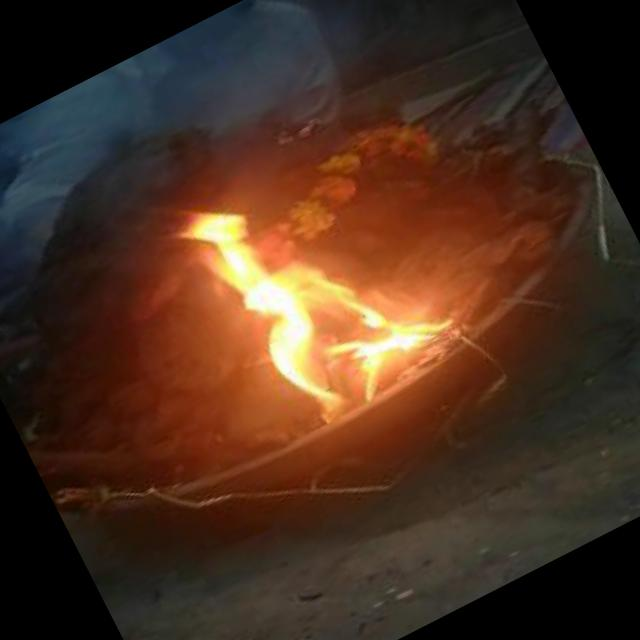fire: (148, 120, 468, 460)
smoke: (0, 0, 334, 288)
